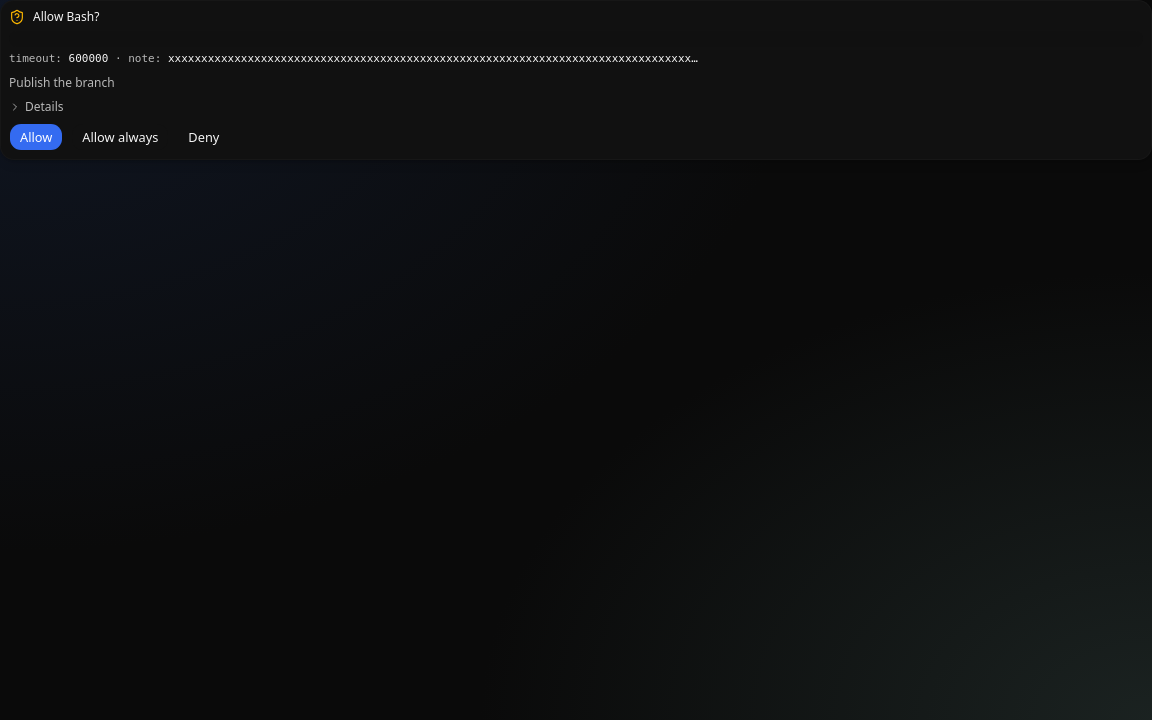
ApprovalCard › shows the arguments beside the command, short, with the whole input under Details
expect the element with test id "approval-extras" shows "timeout: 600000": met, box [9, 52, 698, 65]
Click the button with test id "approval-details" at (36,107), box [9, 99, 64, 115]
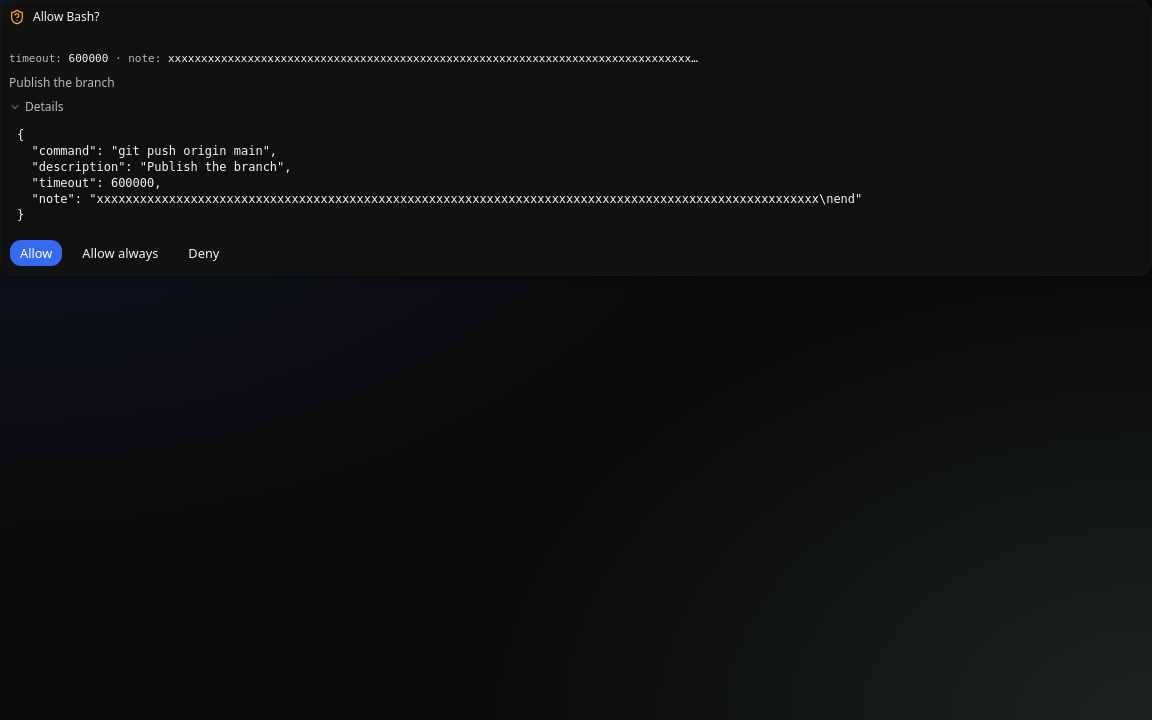
expect the element with test id "approval-details-body" shows "\"timeout\": 600000": met, box [17, 128, 862, 222]
